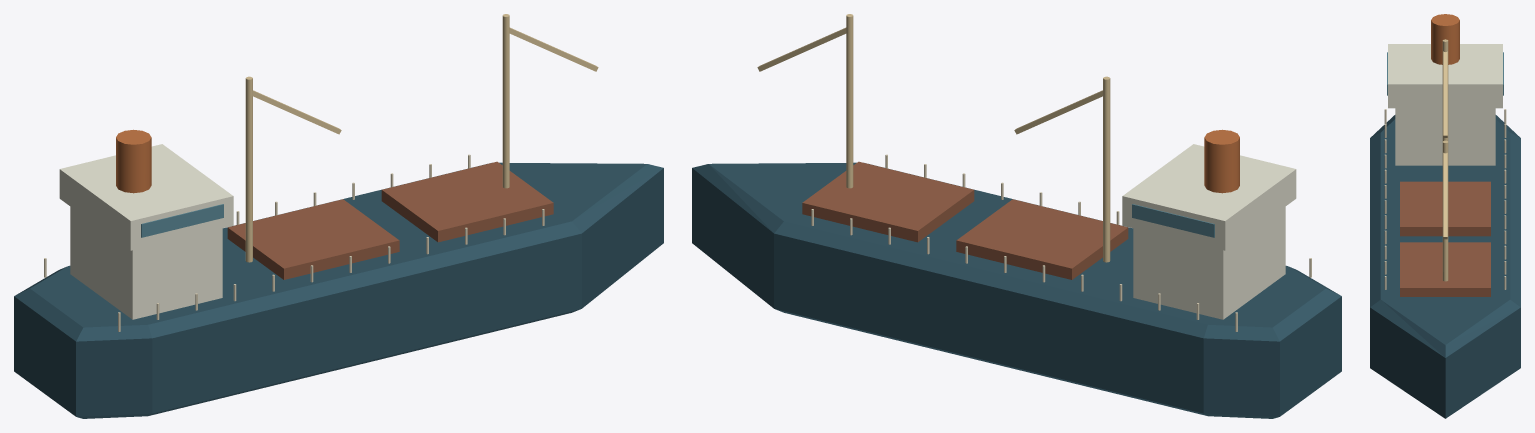
The model's file is diesel-freighter.glb.
3 renders of one model, left to right at view 1: azimuth 30°, elevation 25°; view 2: azimuth 150°, elevation 25°; view 3: azimuth 270°, elevation 25°, orthographic. The views are drawn at different scales.
Parts seen in each view (by area): view 1: diesel-freighter (×11); view 2: diesel-freighter (×11); view 3: diesel-freighter (×10).
Boxes of the visible parts, x1=… form: diesel-freighter (×11): x1=14, y1=14, x2=663, y2=418; diesel-freighter (×11): x1=692, y1=14, x2=1341, y2=418; diesel-freighter (×10): x1=1370, y1=14, x2=1520, y2=418.
Bounding box in the file's own units: 24.09 × 10.2 × 6.3.
